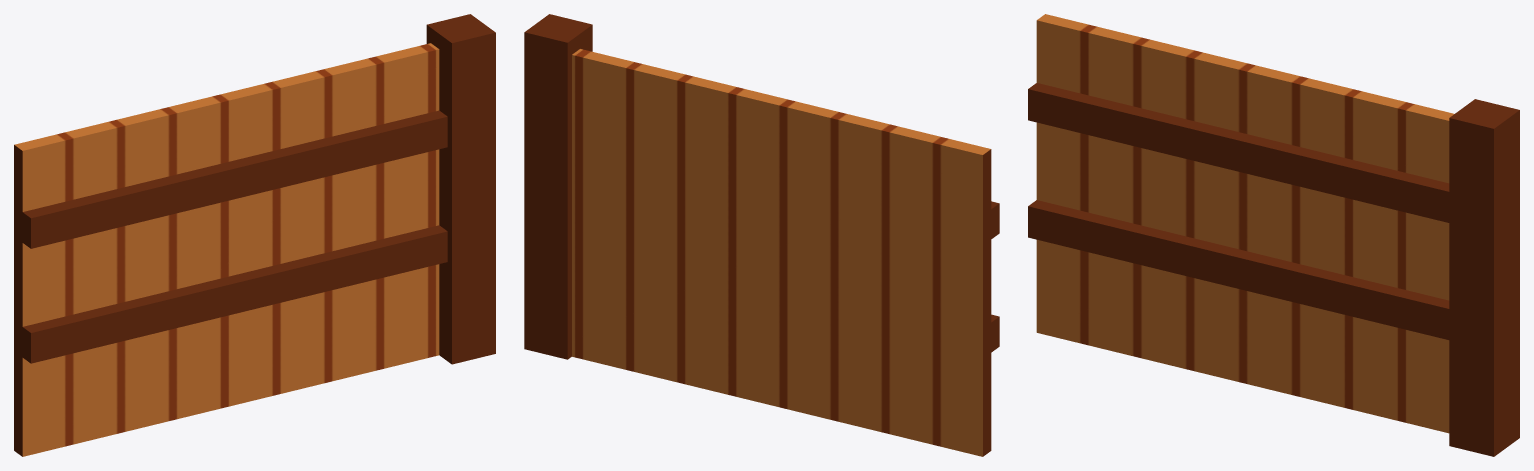
The model's file is Fence_Mesh_002.fbx.
3 views of the same model, side by side, from view 1: azimuth 30°, elevation 25°; view 2: azimuth 150°, elevation 25°; view 3: azimuth 330°, elevation 25° (orthographic). The views are drawn at different scales.
Visible parts, largest first — view 1: Fence_Mesh_001; view 2: Fence_Mesh_001; view 3: Fence_Mesh_001.
Boxes of the visible parts, x1,y1,x2,y2 form: Fence_Mesh_001: (14, 14, 495, 456); Fence_Mesh_001: (524, 14, 999, 456); Fence_Mesh_001: (1028, 14, 1519, 456).
Size of the model in its own units: 315 by 210 by 30.
